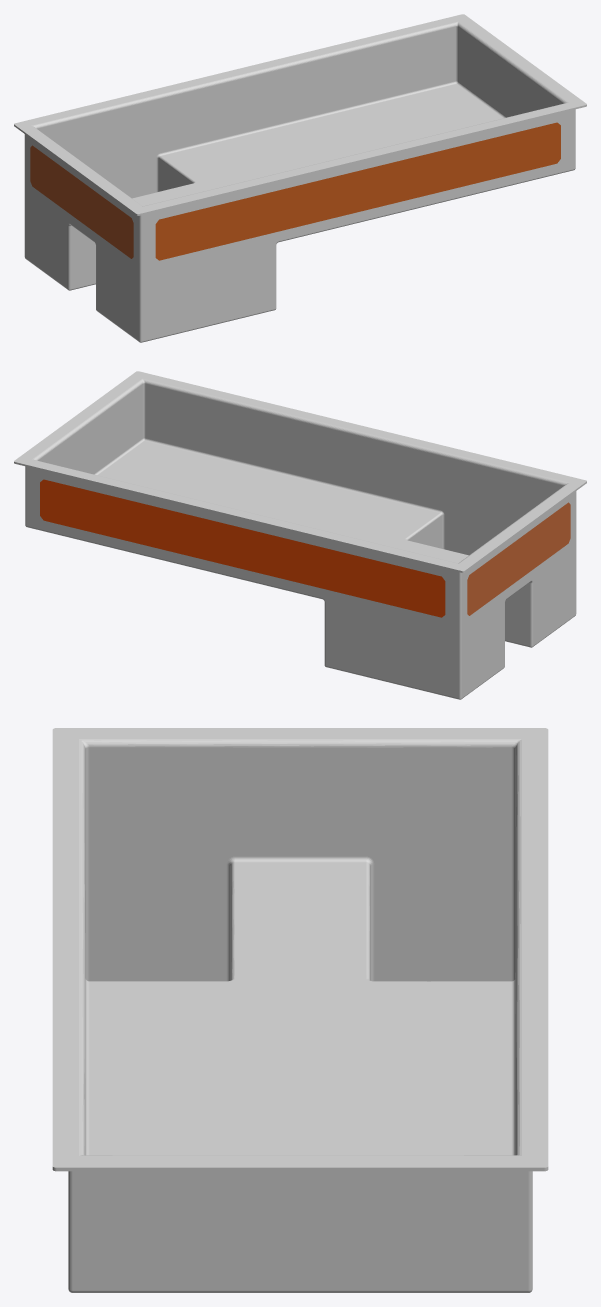
File: usv_box.dae
The picture shows the model from 3 angles, top to bottom: view 1: azimuth 30°, elevation 25°; view 2: azimuth 150°, elevation 25°; view 3: azimuth 270°, elevation 25°; orthographic projection. The views are drawn at different scales.
Visible parts, largest first — view 1: Shape_IndexedFaceSet.001; view 2: Shape_IndexedFaceSet.001; view 3: Shape_IndexedFaceSet.001.
Part boxes in pixels (x1,y1,x2,y2): Shape_IndexedFaceSet.001: (14, 14, 586, 342); Shape_IndexedFaceSet.001: (14, 371, 586, 699); Shape_IndexedFaceSet.001: (52, 728, 548, 1292).
Bounding box in the file's own units: 1.25 × 0.5969 × 0.3556.
